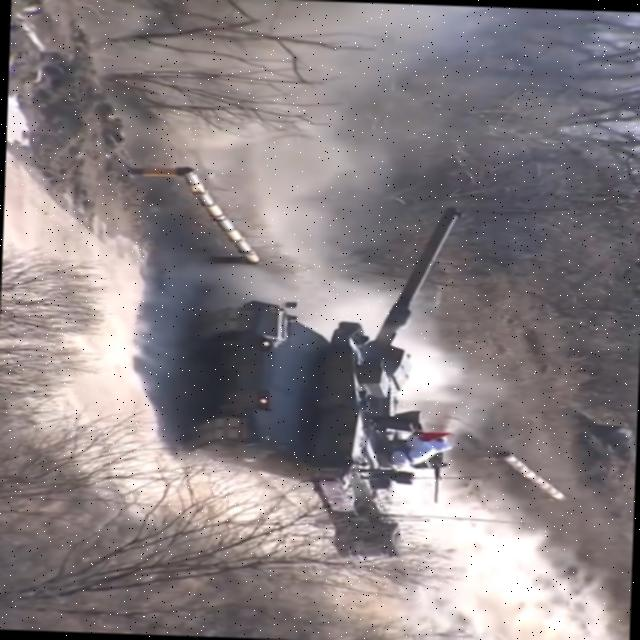korea tank: (175, 194, 465, 562)
